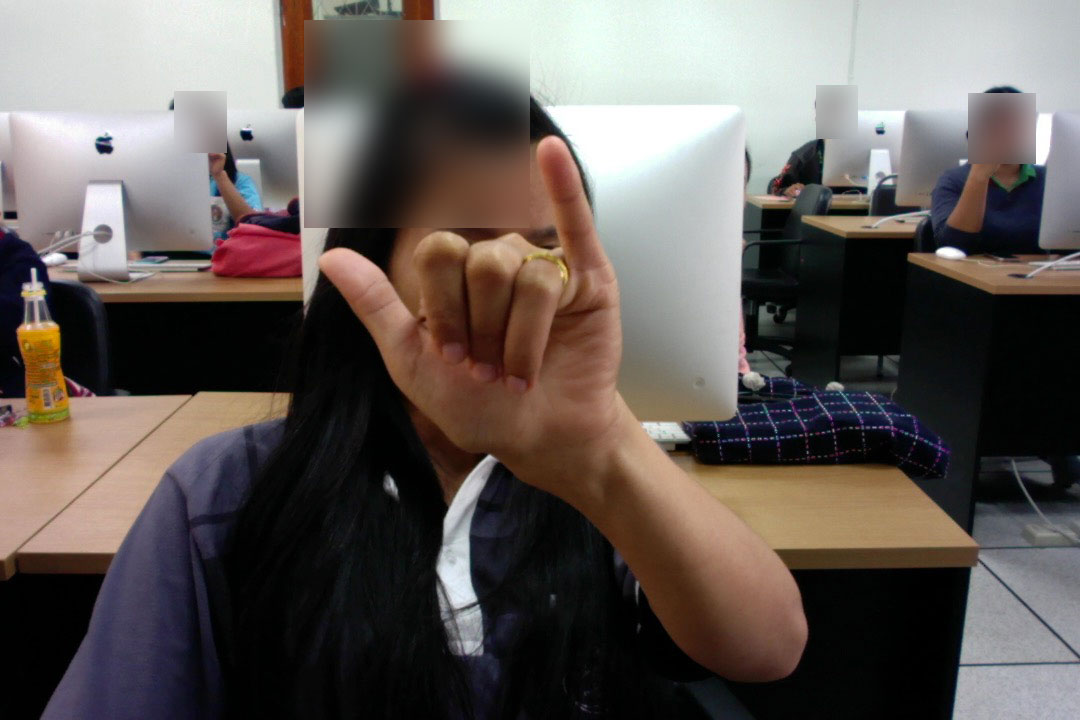yor: (304, 132, 628, 482)
